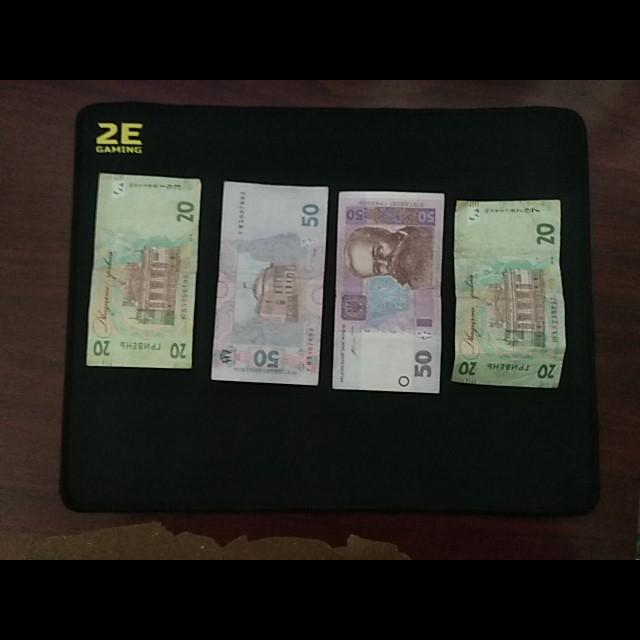20uah: (86, 170, 196, 370), (452, 202, 564, 390)
50uah: (211, 180, 328, 385), (332, 194, 442, 392)
